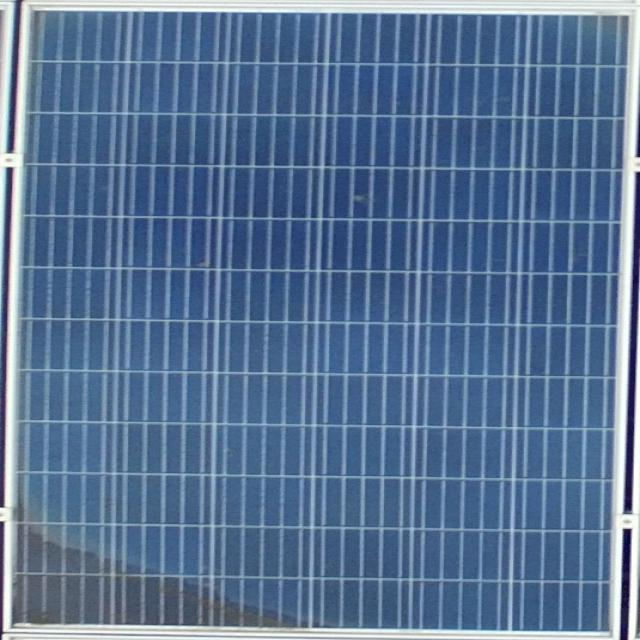Dust: (17, 488, 326, 634)
